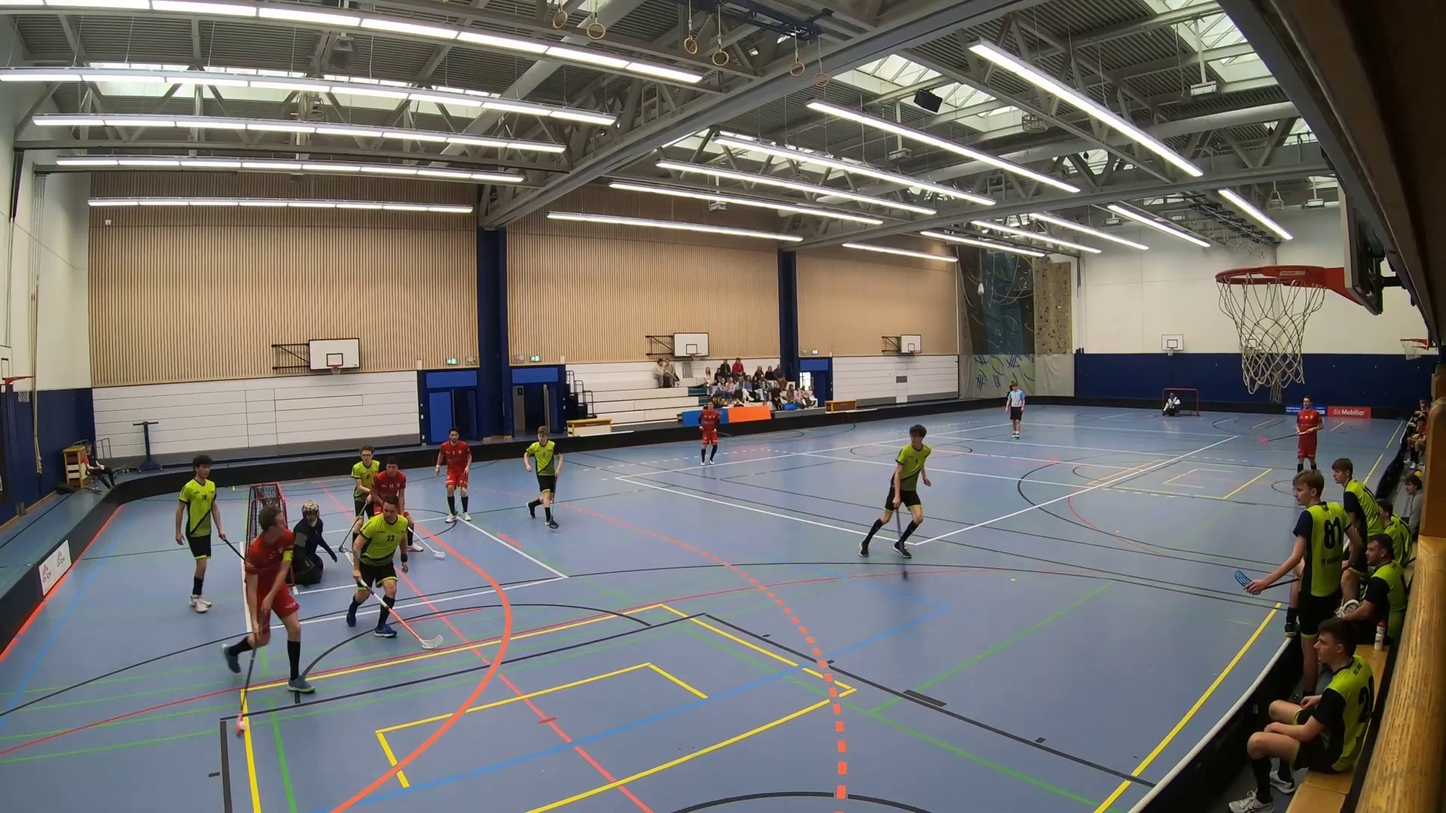Schiri: (997, 370, 1030, 438)
ball: (236, 718, 249, 733)
goalkeeper: (291, 494, 335, 590), (1152, 384, 1183, 421)
player: (212, 493, 319, 768), (322, 503, 460, 677), (847, 405, 949, 593), (172, 436, 231, 632), (1254, 385, 1327, 498), (361, 465, 446, 554), (508, 412, 568, 535), (420, 420, 482, 531), (678, 391, 733, 481), (334, 440, 380, 535)
